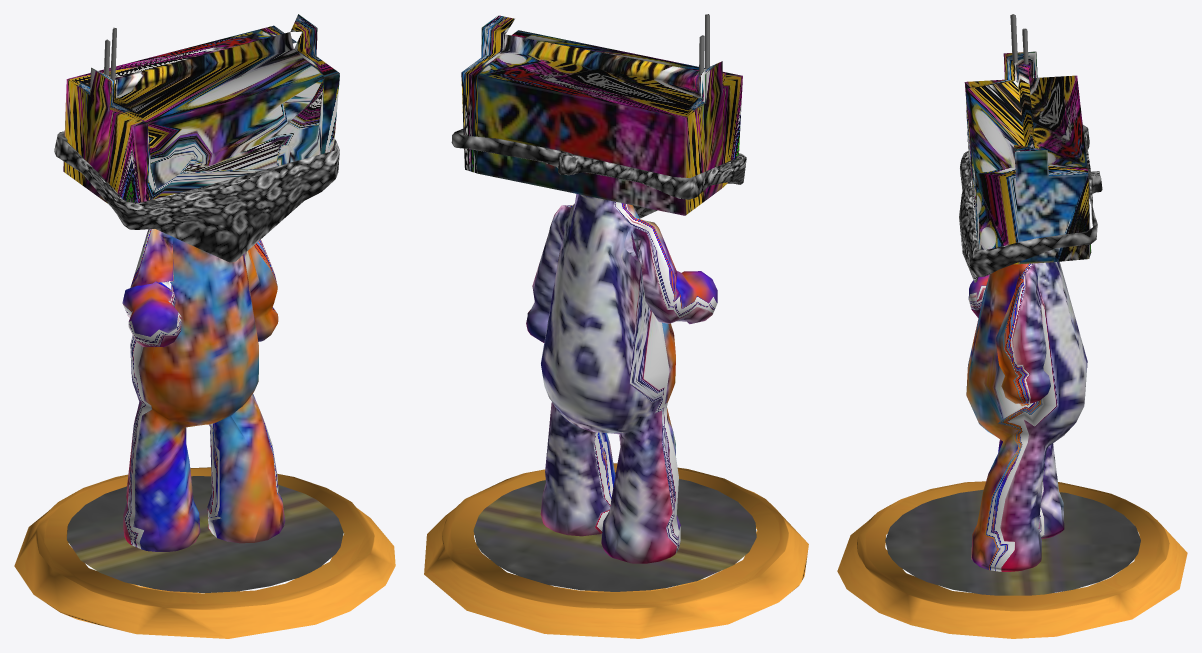
3 views of the same model, side by side, from view 1: azimuth 30°, elevation 25°; view 2: azimuth 150°, elevation 25°; view 3: azimuth 270°, elevation 25° (orthographic). The views are drawn at different scales.
Size of the model in its own units: 1.45 by 2.31 by 1.44.
Materials: 6 (5 with a texture image).
